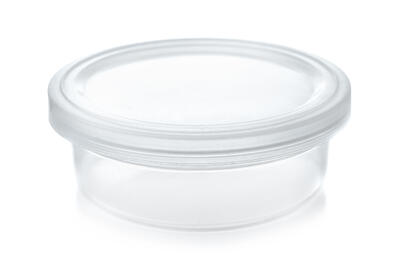PlasticBox: (45, 34, 353, 235)
